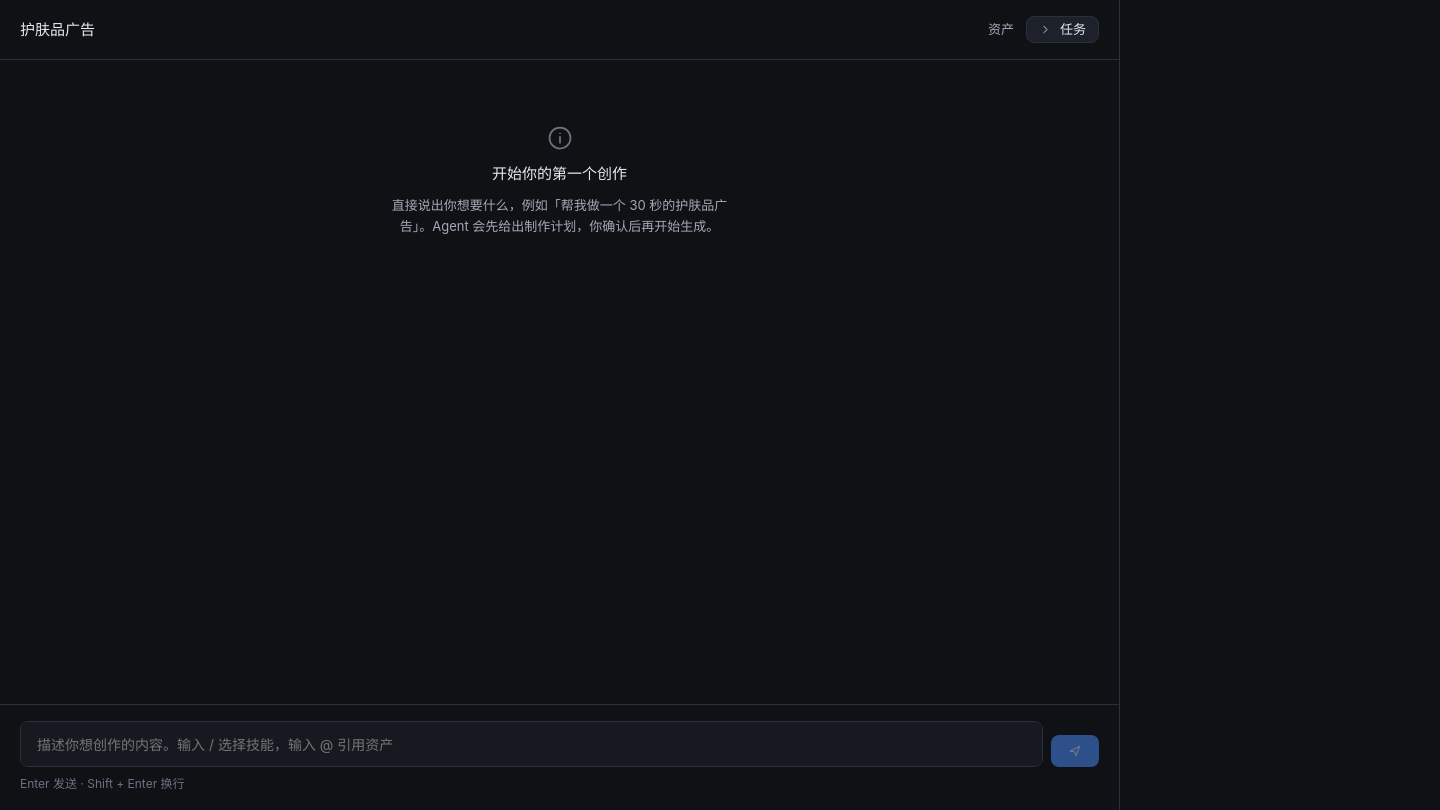
Test: 窄屏布局 › 窄屏时提供打开任务抽屉的入口
Click the button "任务": (1062, 29) [1026, 16, 1099, 43]
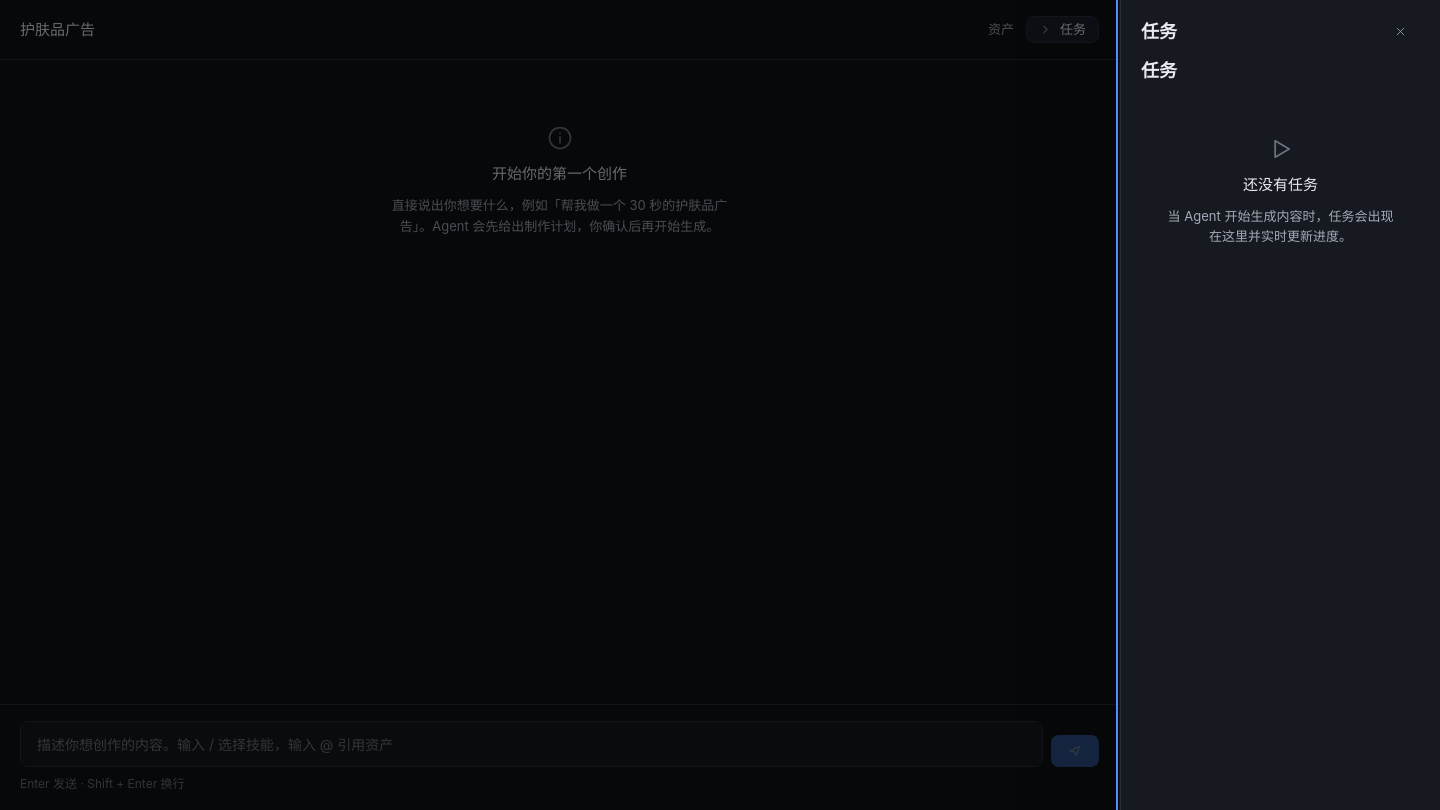
expect the dialog "任务" is shown: met, box [1120, 0, 1439, 809]
